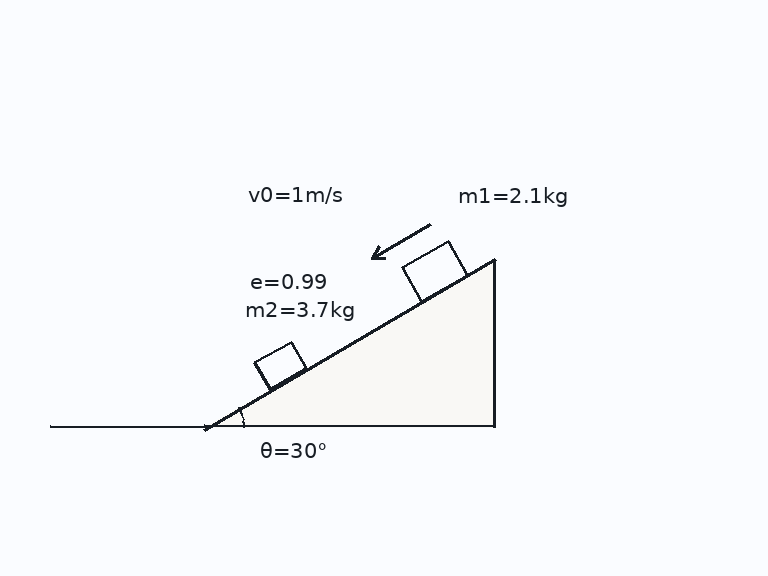block: (400, 239, 469, 304), (253, 340, 308, 391)
ramp: (202, 257, 497, 429)
